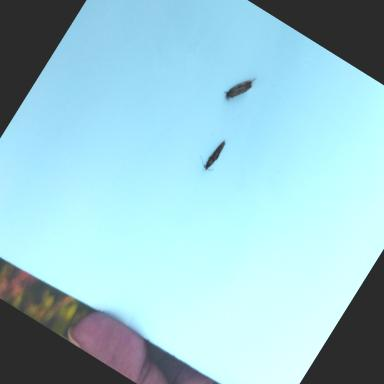pbw: (220, 67, 257, 108), (194, 132, 230, 174)
